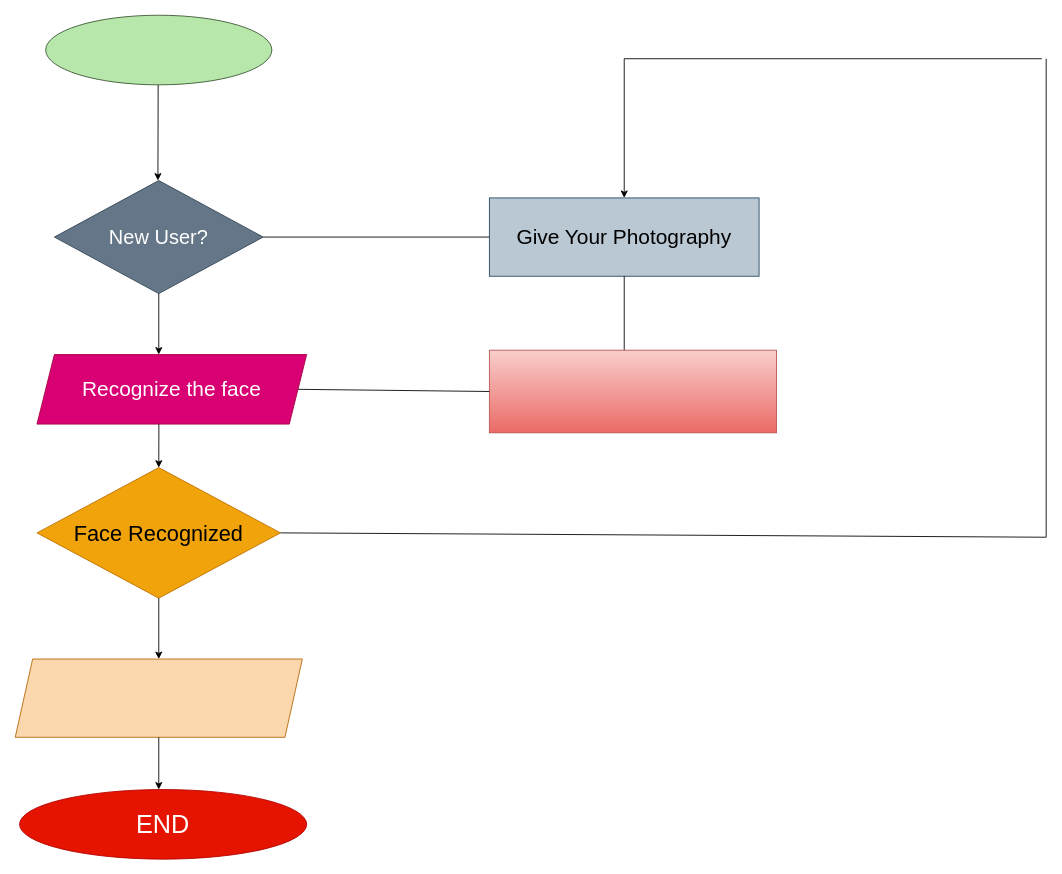
Some shapes in this 1062 by 874 pixel diagram are drawn without their labels. The shapes that lost their labels are listed below. From the top down, each one's box as (x1, y1, x2, y2) in pixels, then its label:
(45, 14, 272, 85): Start
(489, 349, 776, 433): Store the face date in folder of your name
(14, 658, 302, 737): Store in CSV file with registration number and time of entry
